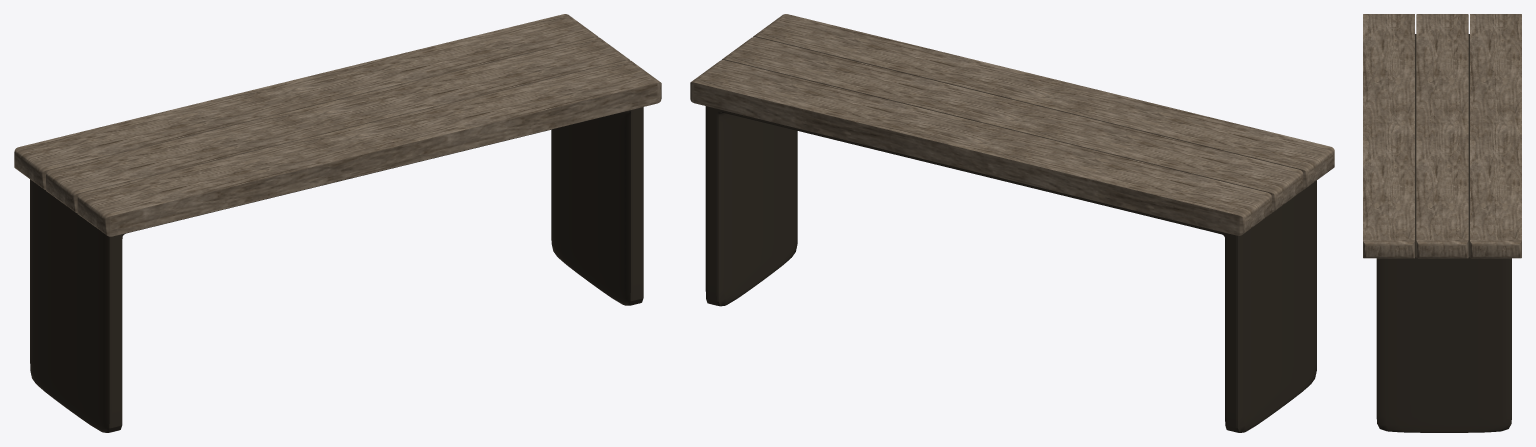
File: Bench.fbx
3 views of the same model, side by side, from view 1: azimuth 30°, elevation 25°; view 2: azimuth 150°, elevation 25°; view 3: azimuth 270°, elevation 25° (orthographic). The views are drawn at different scales.
Visible parts, largest first — view 1: Bench_SeatStand; view 2: Bench_SeatStand; view 3: Bench_SeatStand.
Part boxes in pixels (bbox=[...]): Bench_SeatStand: bbox=[14, 14, 661, 432]; Bench_SeatStand: bbox=[690, 14, 1334, 432]; Bench_SeatStand: bbox=[1363, 14, 1521, 432].
Size of the model in its own units: 636 by 251 by 186.
Materials: 2 (2 with a texture image).
